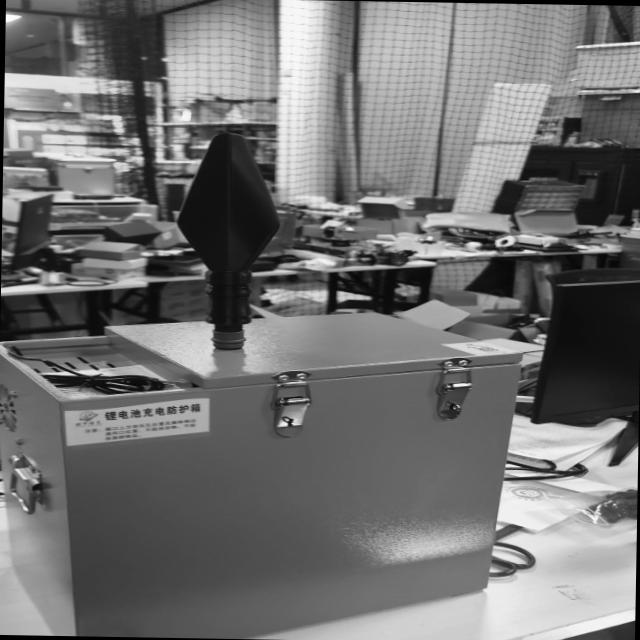base: (210, 328, 247, 348)
